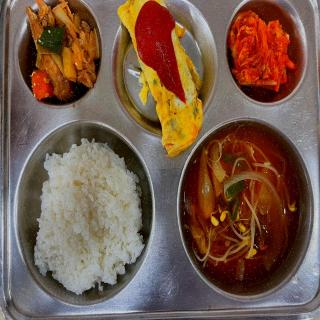Nasi: (35, 141, 144, 296)
